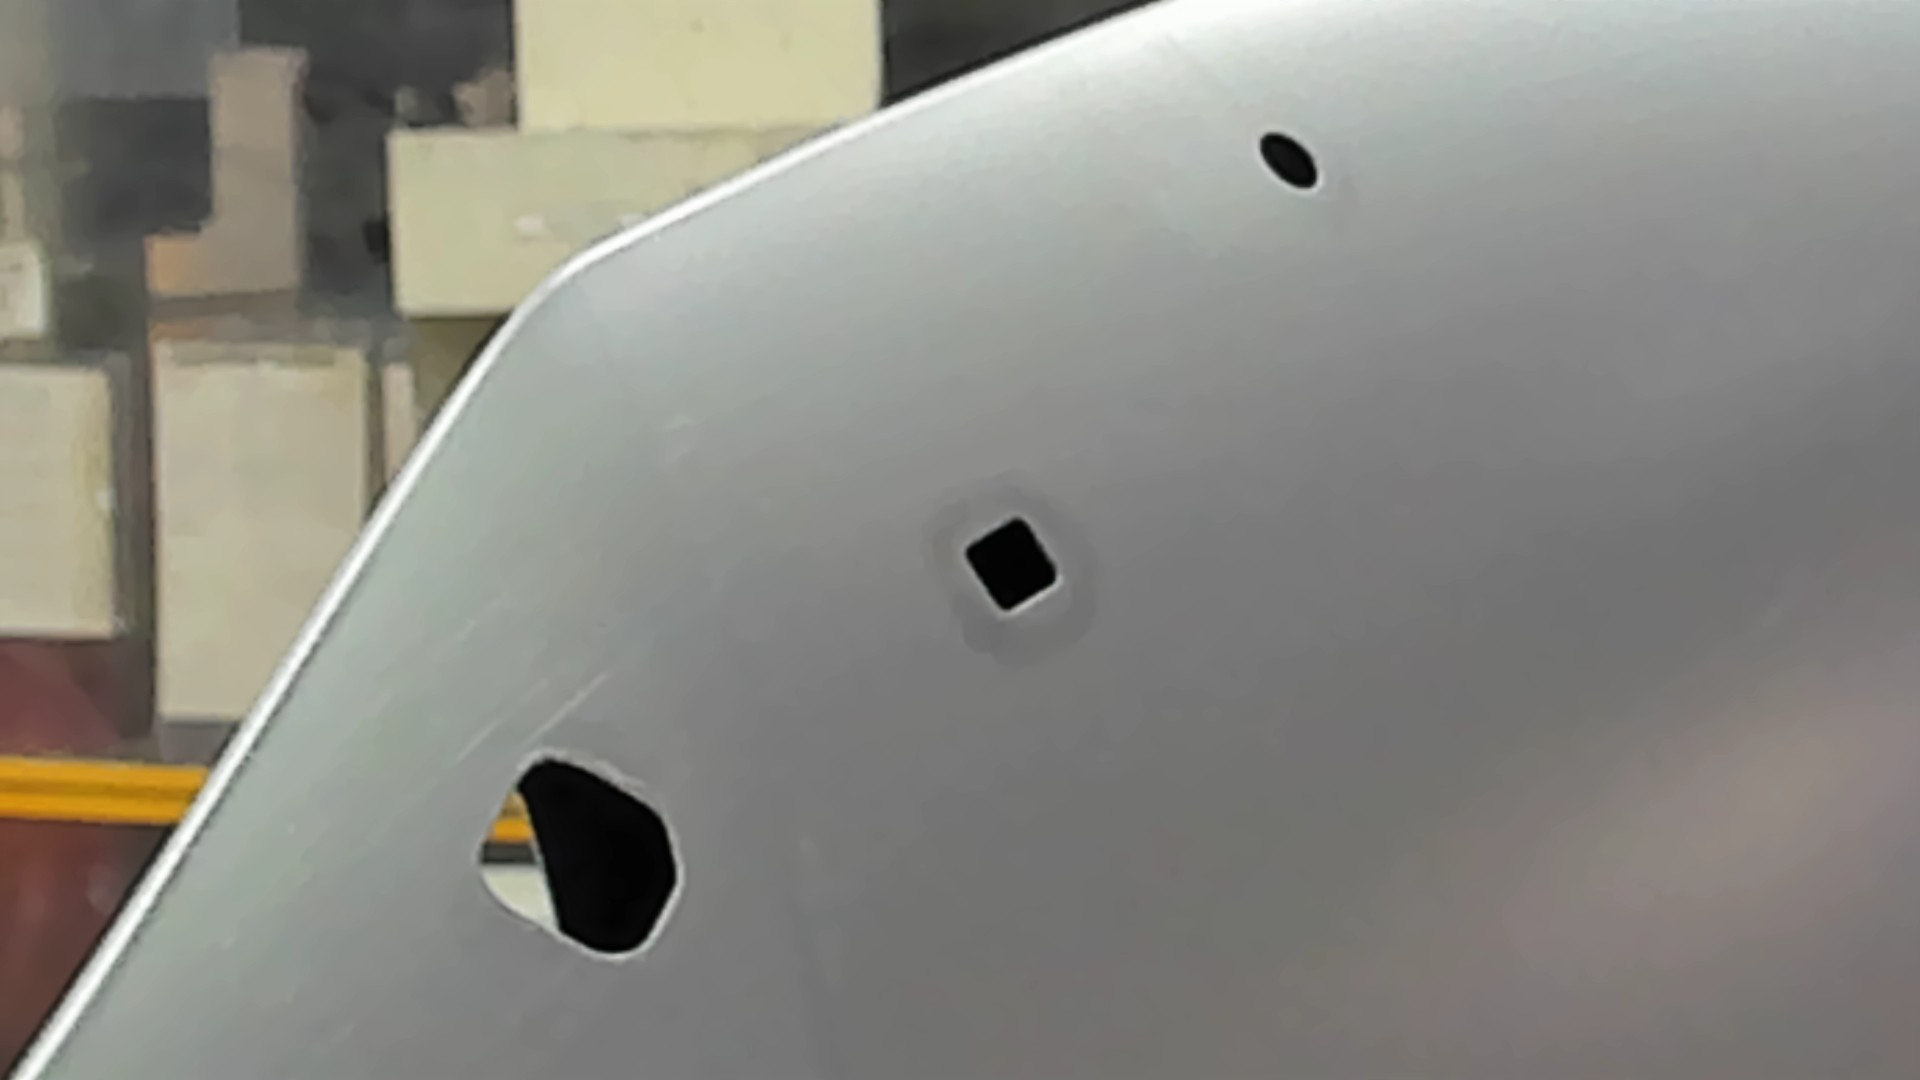chico: (1251, 123, 1324, 199)
grande: (469, 749, 687, 967)
mediano: (955, 510, 1065, 622)
